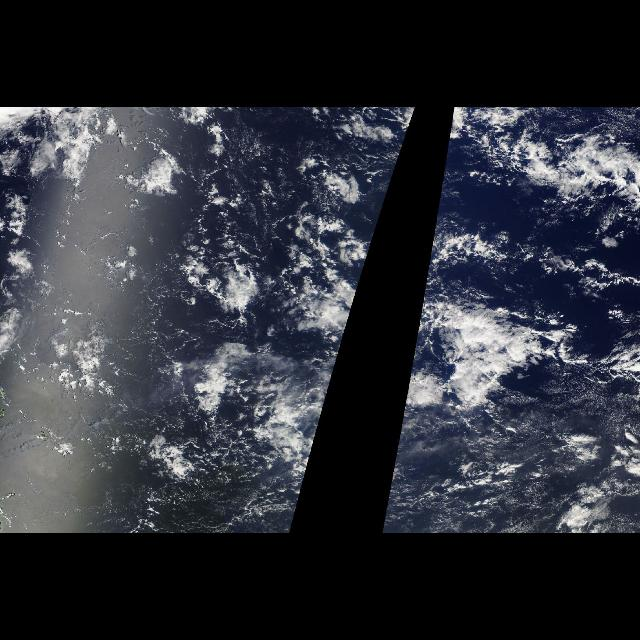Fish: (444, 114, 640, 223)
Gravel: (6, 245, 318, 523)
Sugar: (404, 375, 634, 527)
